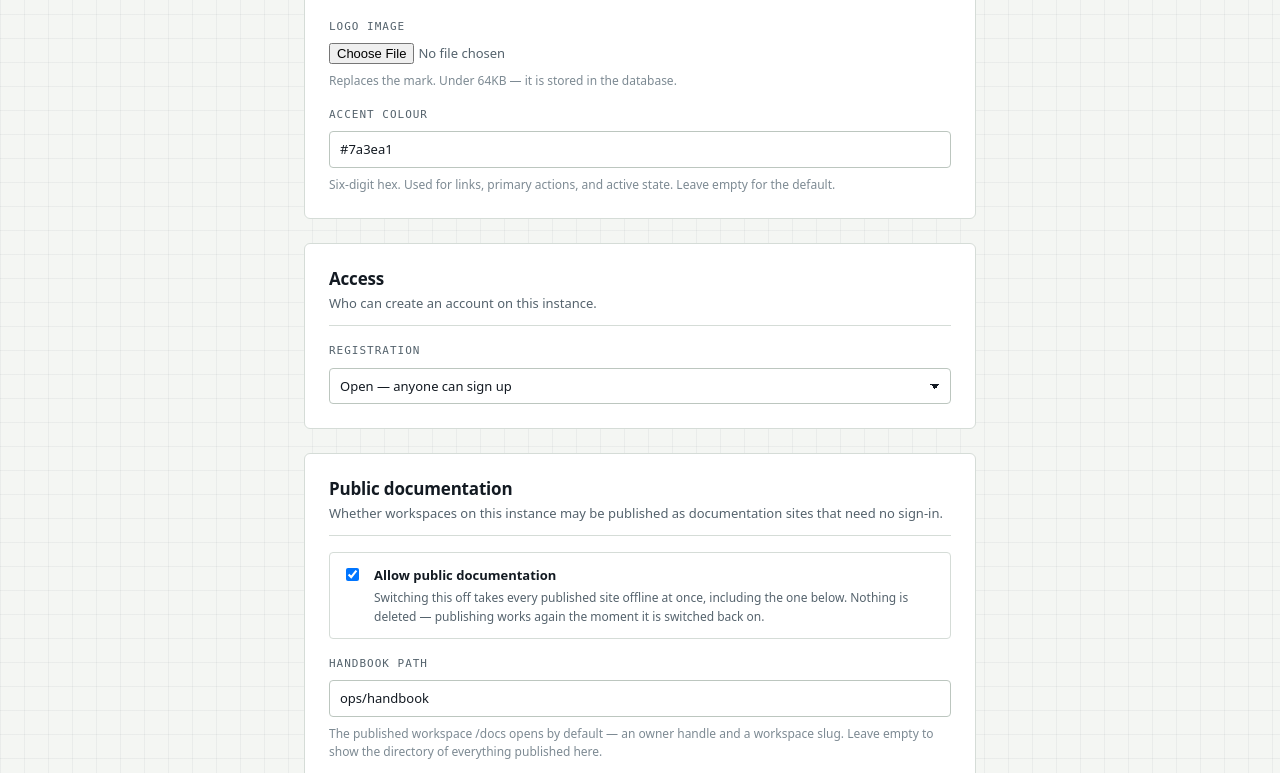
Test case: InstanceSettingsPage › asks for domains only when registration is restricted
(page scrolled)
Check: the field labelled "Allowed email domains" is not shown
Select "Restricted — only listed email domains" in the dropdown labelled "Registration": (640, 386) [329,368,951,404]
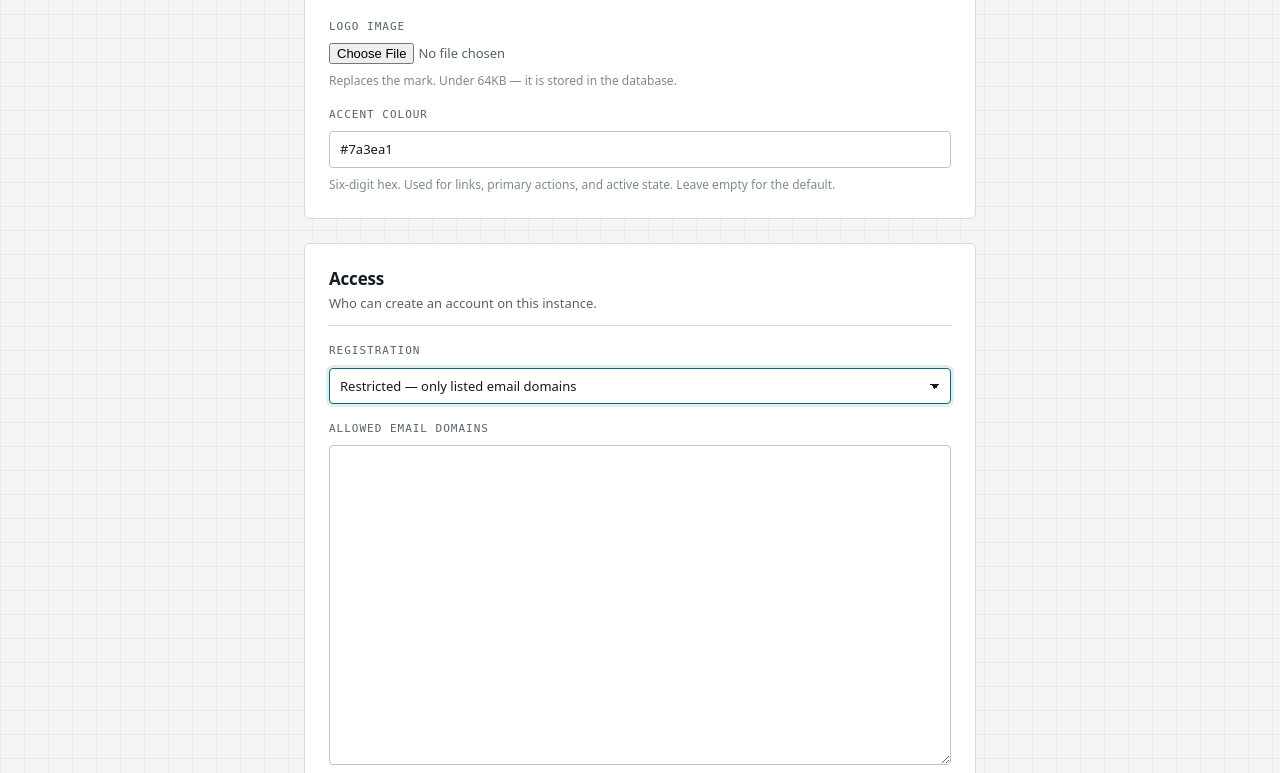
Check: the text box labelled "Allowed email domains" is shown, box [329,445,951,765]
